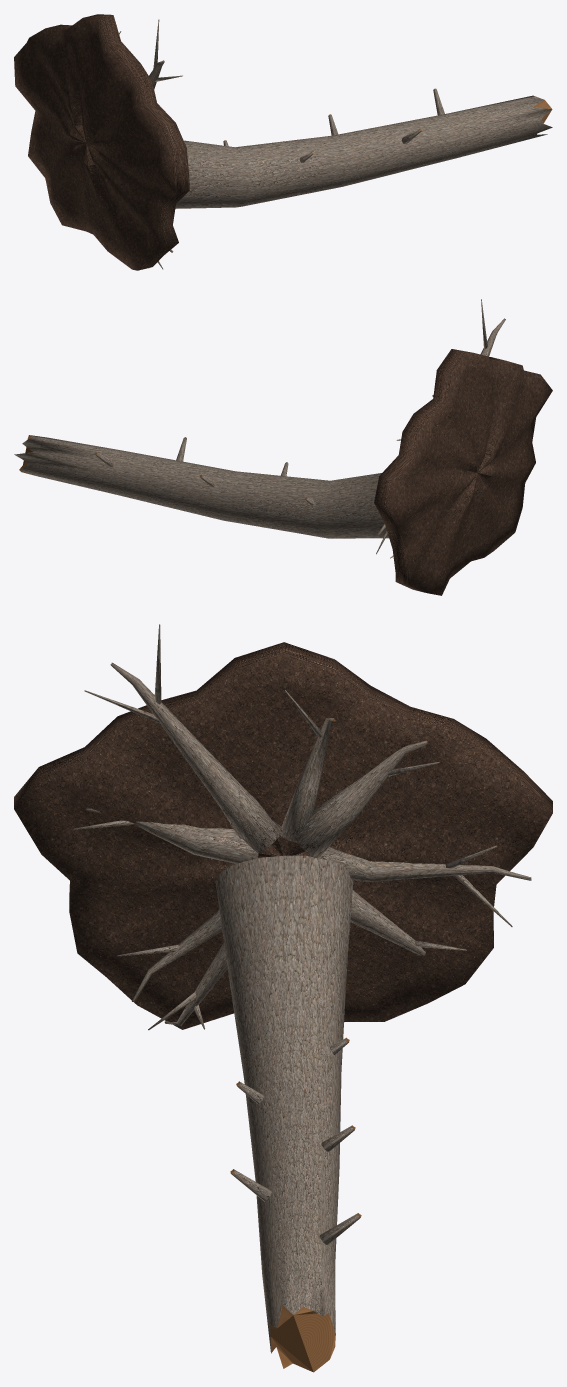
File: SS_WindthrowBase_Fresh_01_LOD0.fbx
3 views of the same model, one above another, from view 1: azimuth 30°, elevation 25°; view 2: azimuth 150°, elevation 25°; view 3: azimuth 270°, elevation 25° (orthographic). The views are drawn at different scales.
Parts seen in each view (by area): view 1: SS_WindthrowBase_Fresh_01_LOD0_Structure; view 2: SS_WindthrowBase_Fresh_01_LOD0_Structure; view 3: SS_WindthrowBase_Fresh_01_LOD0_Structure.
Boxes of the visible parts, <box> form: SS_WindthrowBase_Fresh_01_LOD0_Structure: <box>14,14,552,270</box>; SS_WindthrowBase_Fresh_01_LOD0_Structure: <box>14,299,552,595</box>; SS_WindthrowBase_Fresh_01_LOD0_Structure: <box>14,624,552,1372</box>.
Size of the model in its own units: 557 by 285 by 340.
4 materials, 4 textured.
